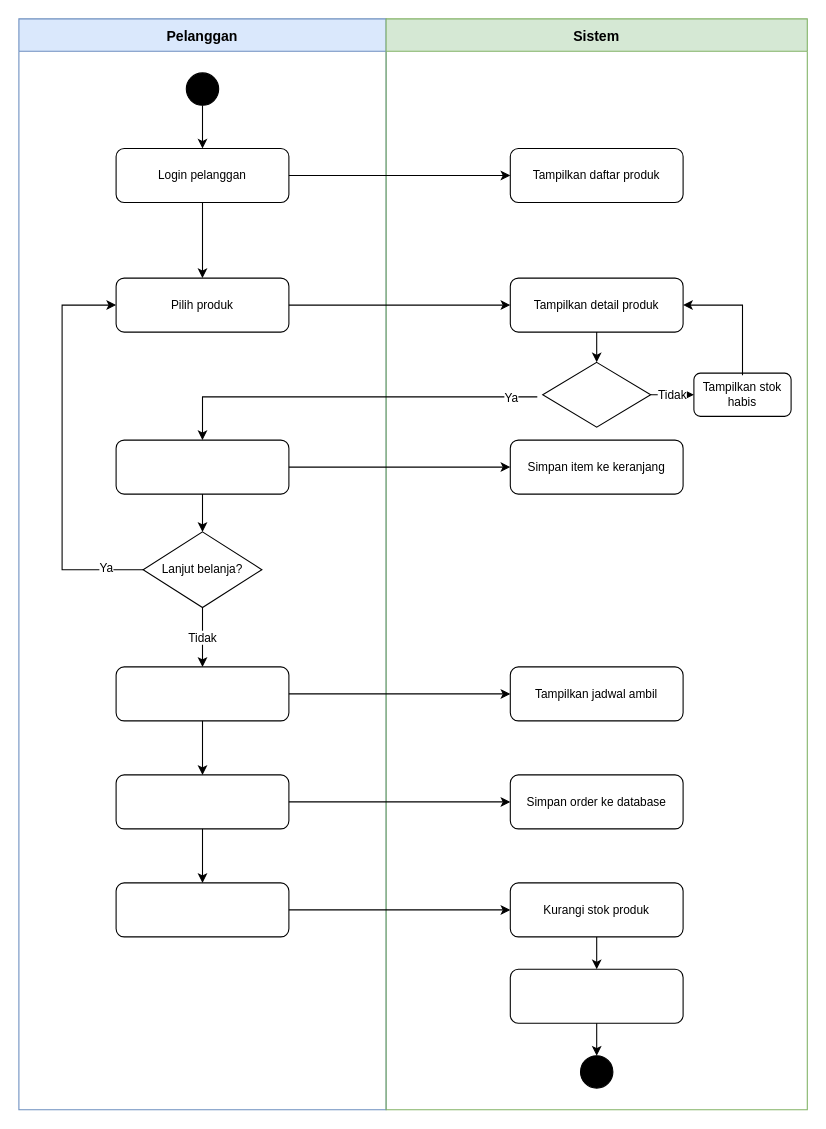
Some shapes in this 826 by 1129 pixel diagram are drawn without their labels. The shapes that lost their labels are listed below. From the top down, each one's box as (x1, y1, x2, y2) in pixels, then its label:
(542, 361, 651, 427): Stok tersedia?
(115, 439, 289, 494): Tambah ke keranjang
(115, 666, 289, 721): Buka keranjang
(115, 774, 289, 829): Pilih jam ambil
(115, 882, 289, 937): Konfirmasi pesanan
(509, 968, 683, 1023): Tampilkan detail pesanan
